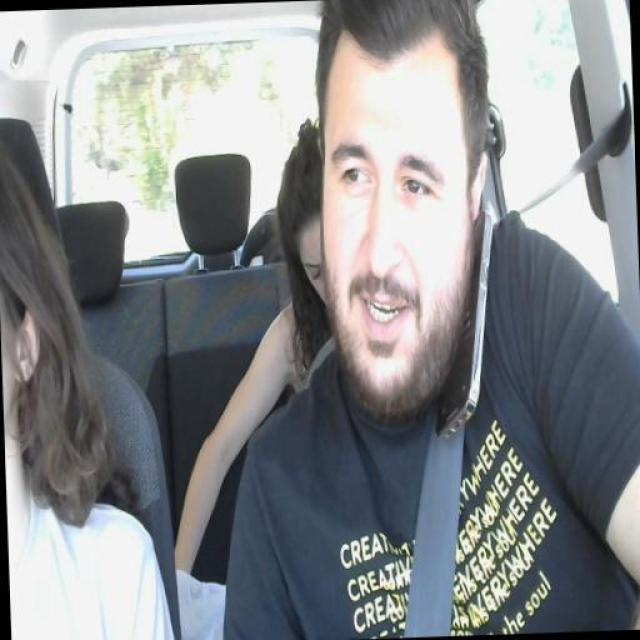phone: (432, 206, 488, 439)
